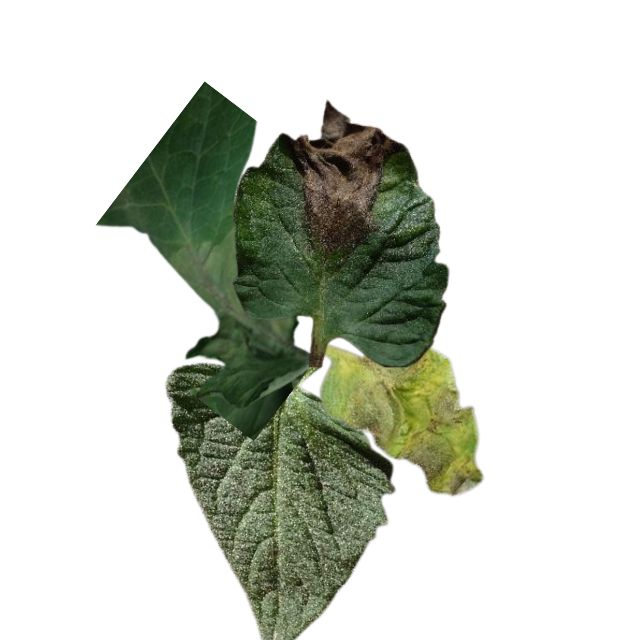Late_blight: (342, 350, 483, 495), (168, 222, 299, 368), (289, 101, 398, 252)
